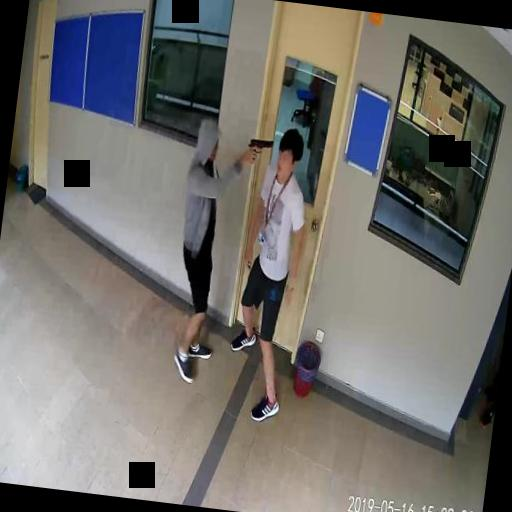Handgun: (246, 134, 272, 166)
